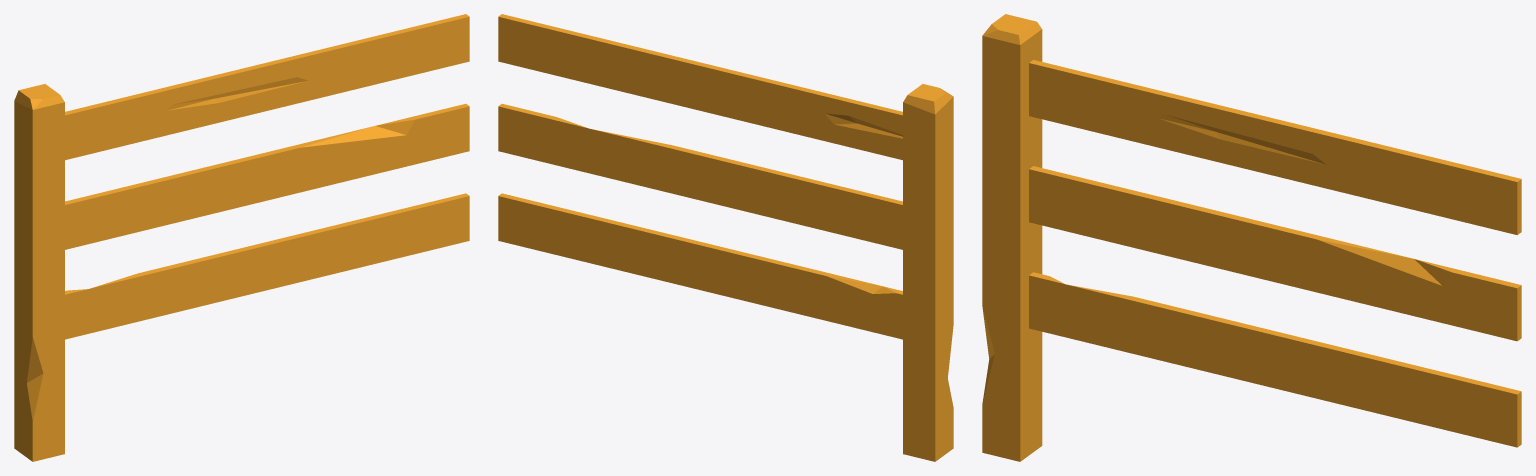
The model's file is SM_Fence_Horse_2m.fbx.
The picture shows the model from 3 angles, left to right: view 1: azimuth 30°, elevation 25°; view 2: azimuth 150°, elevation 25°; view 3: azimuth 330°, elevation 25°; orthographic projection. The views are drawn at different scales.
Visible parts, largest first — view 1: fence-horse-2m; view 2: fence-horse-2m; view 3: fence-horse-2m.
Part boxes in pixels (x1,y1,x2,y2): fence-horse-2m: [14, 14, 469, 461]; fence-horse-2m: [498, 14, 953, 461]; fence-horse-2m: [982, 14, 1521, 461].
Size of the model in its own units: 2.07 by 1.6 by 0.15.
